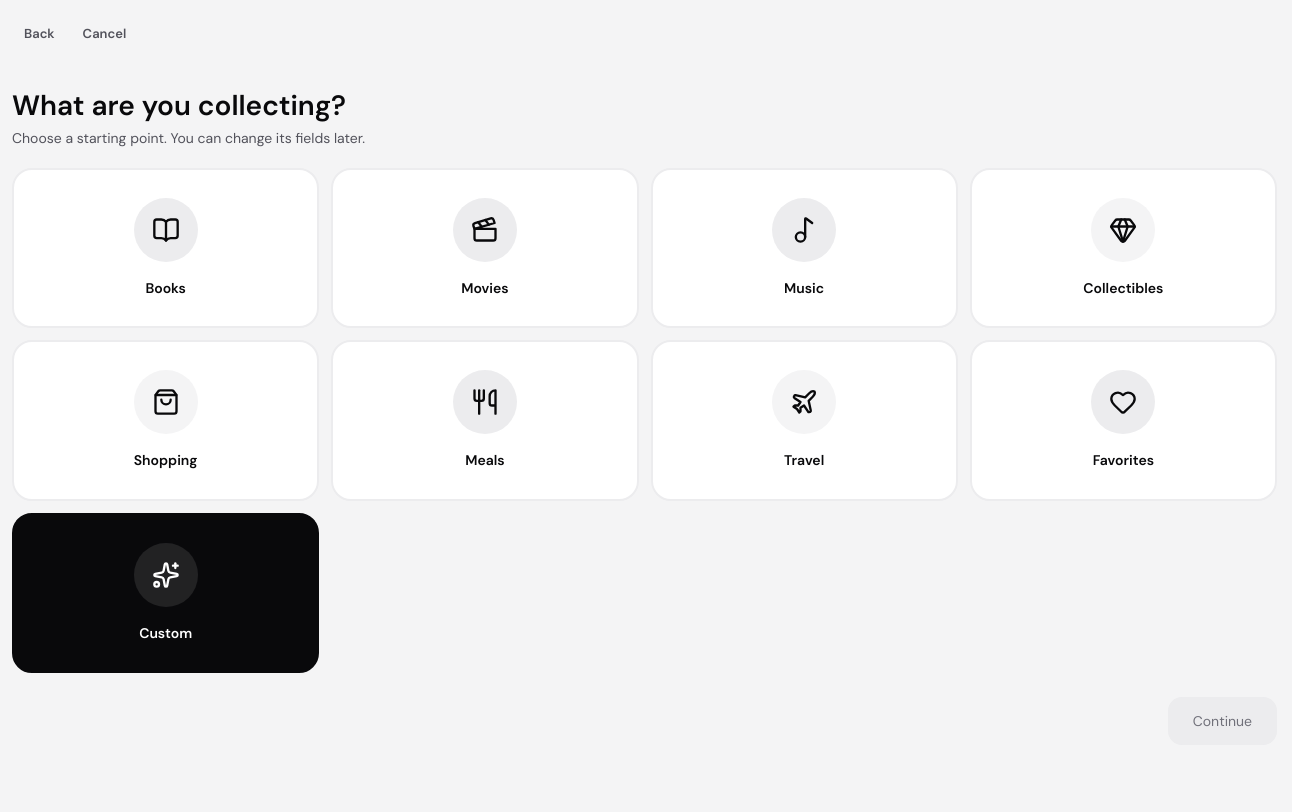
Collection wizard › focuses the first invalid field after server validation
Click the button with aria-label "Custom preset" at x=166, y=593, box x1=12 y1=513 x2=319 y2=673
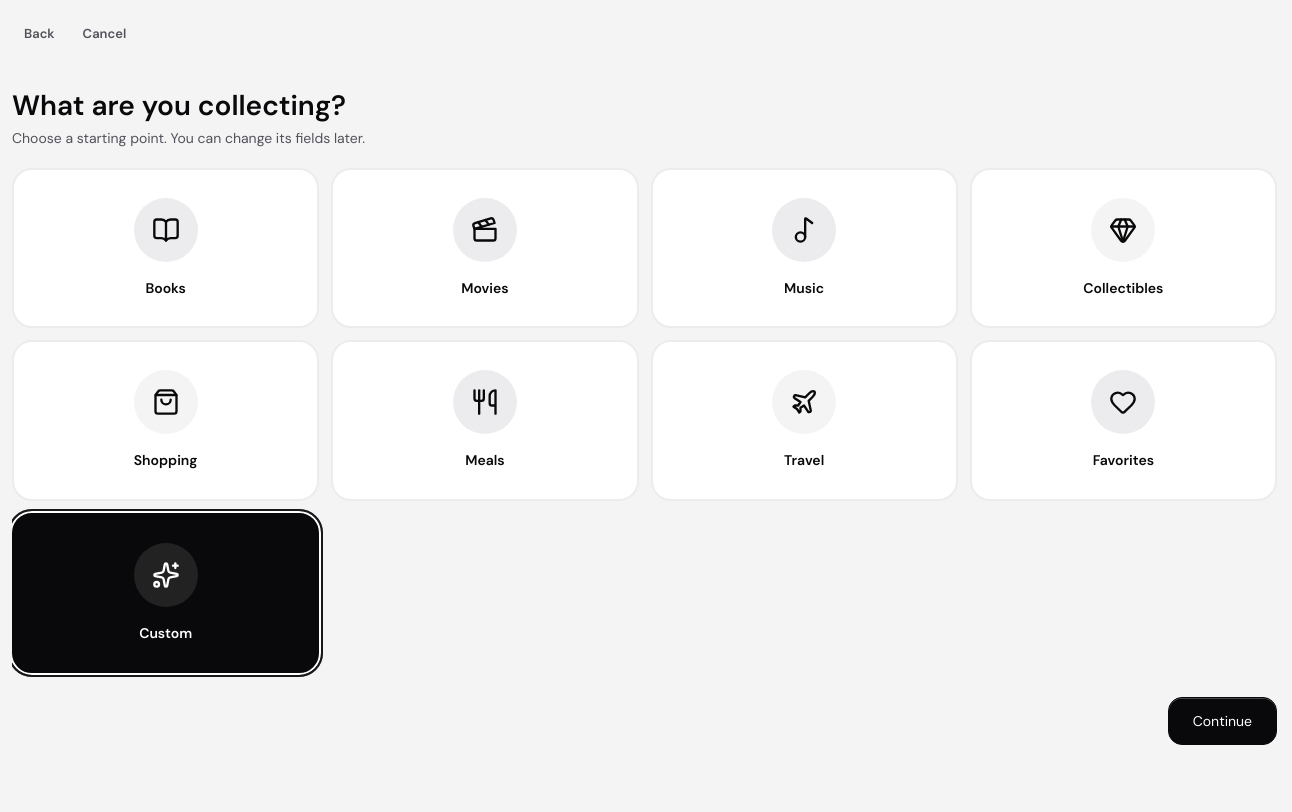
Click the button "Continue" at x=1222, y=721, box x1=1168 y1=697 x2=1277 y2=745
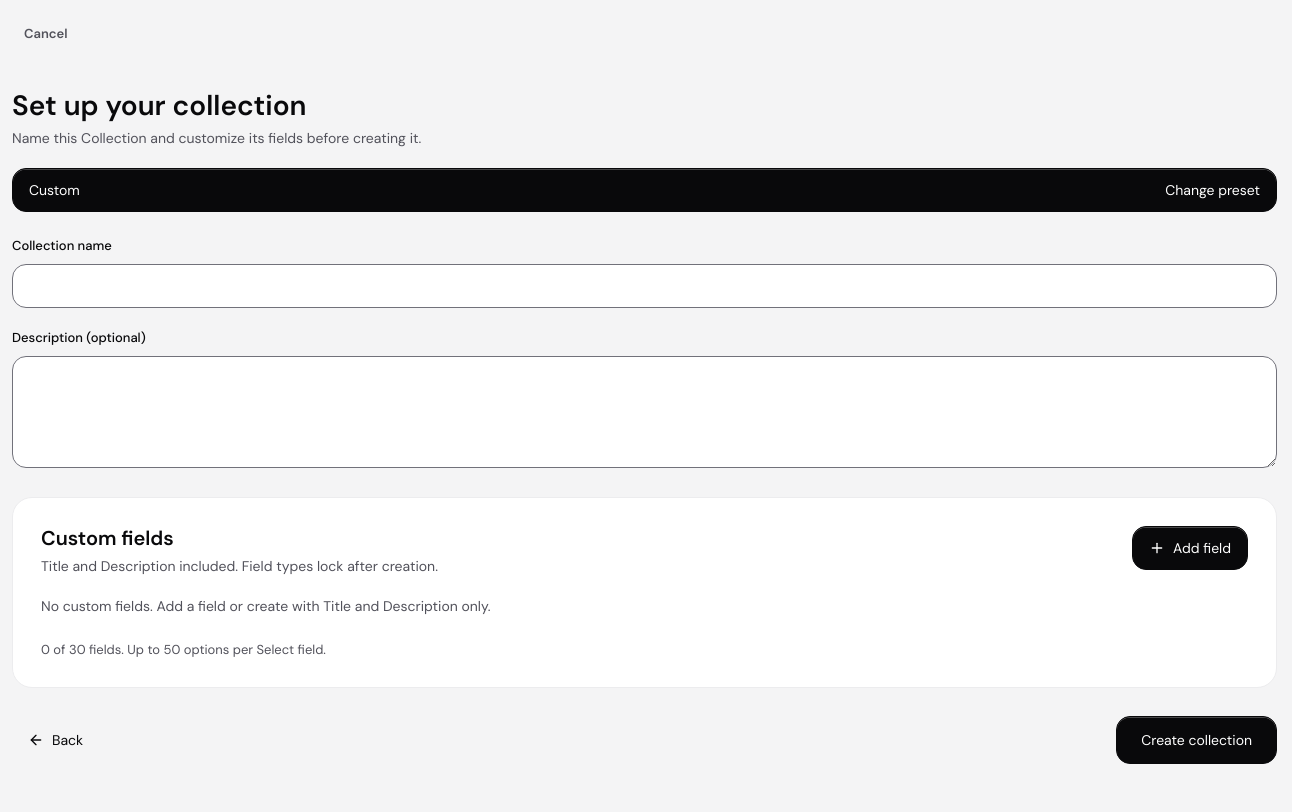
Click the button "Create collection" at x=1197, y=740, box x1=1116 y1=716 x2=1277 y2=764
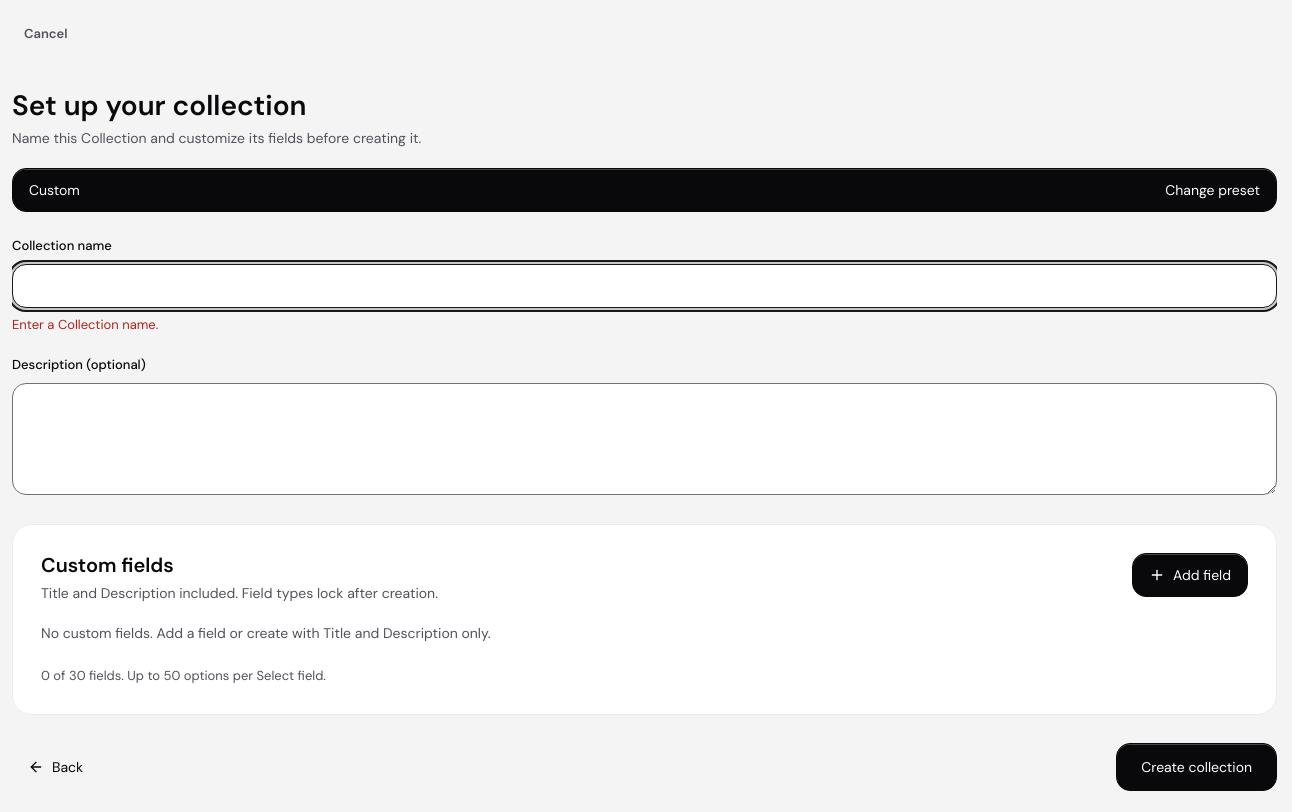
Expected: the text "Enter a Collection name." is shown, x1=12 y1=316 x2=158 y2=333
